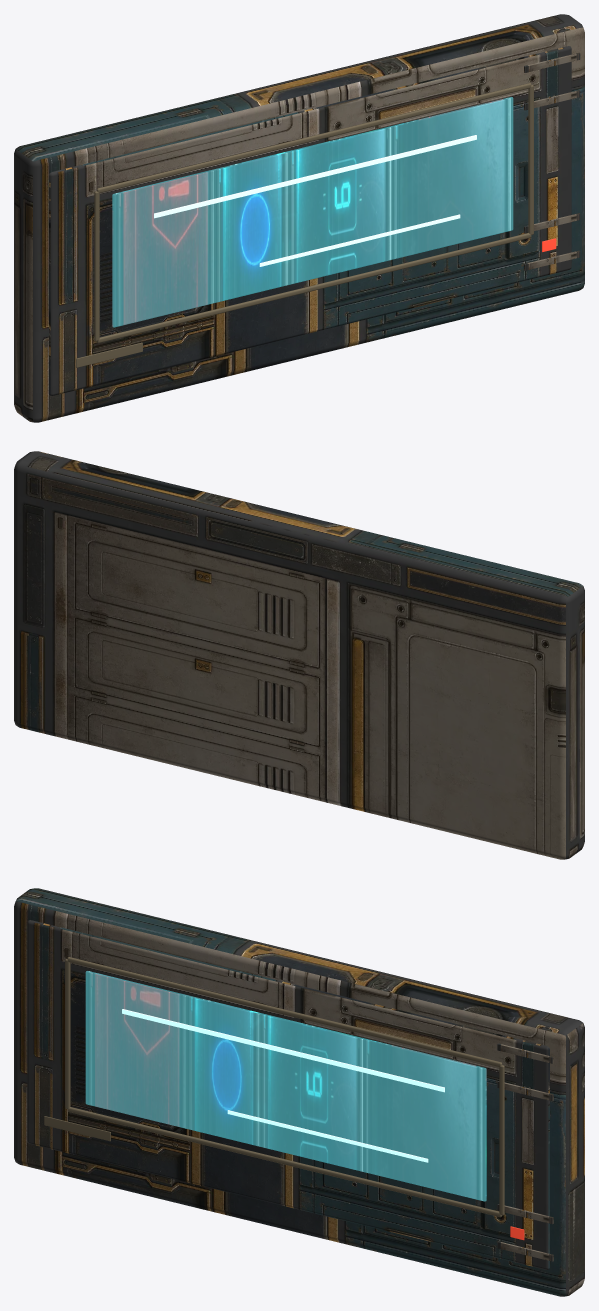
Rendered from hp_room_residential_tv_wall_director.glb.
3 views of the same model, one above another, from view 1: azimuth 30°, elevation 25°; view 2: azimuth 150°, elevation 25°; view 3: azimuth 330°, elevation 25° (orthographic).
Visible parts, largest first — view 1: cool_gray_surround_panel, wide_false_home_observation_screen, deep_wall_shadow_backer, small_warm_domestic_status, cyan_horizon_scan_line; view 2: deep_wall_shadow_backer; view 3: cool_gray_surround_panel, wide_false_home_observation_screen, deep_wall_shadow_backer, small_warm_domestic_status, cyan_horizon_scan_line.
Part boxes in pixels (bbox=[...]): cool_gray_surround_panel: bbox=[49, 46, 571, 395]; wide_false_home_observation_screen: bbox=[112, 97, 513, 327]; deep_wall_shadow_backer: bbox=[14, 14, 584, 422]; small_warm_domestic_status: bbox=[76, 83, 533, 367]; cyan_horizon_scan_line: bbox=[154, 135, 476, 266]; deep_wall_shadow_backer: bbox=[14, 451, 584, 859]; cool_gray_surround_panel: bbox=[27, 920, 549, 1269]; wide_false_home_observation_screen: bbox=[85, 971, 486, 1201]; deep_wall_shadow_backer: bbox=[14, 888, 584, 1296]; small_warm_domestic_status: bbox=[44, 957, 504, 1217]; cyan_horizon_scan_line: bbox=[122, 1009, 444, 1162].
Bounding box in the file's own units: 4.4 × 2.02 × 0.3687.
Materials: 6 (3 with a texture image).
